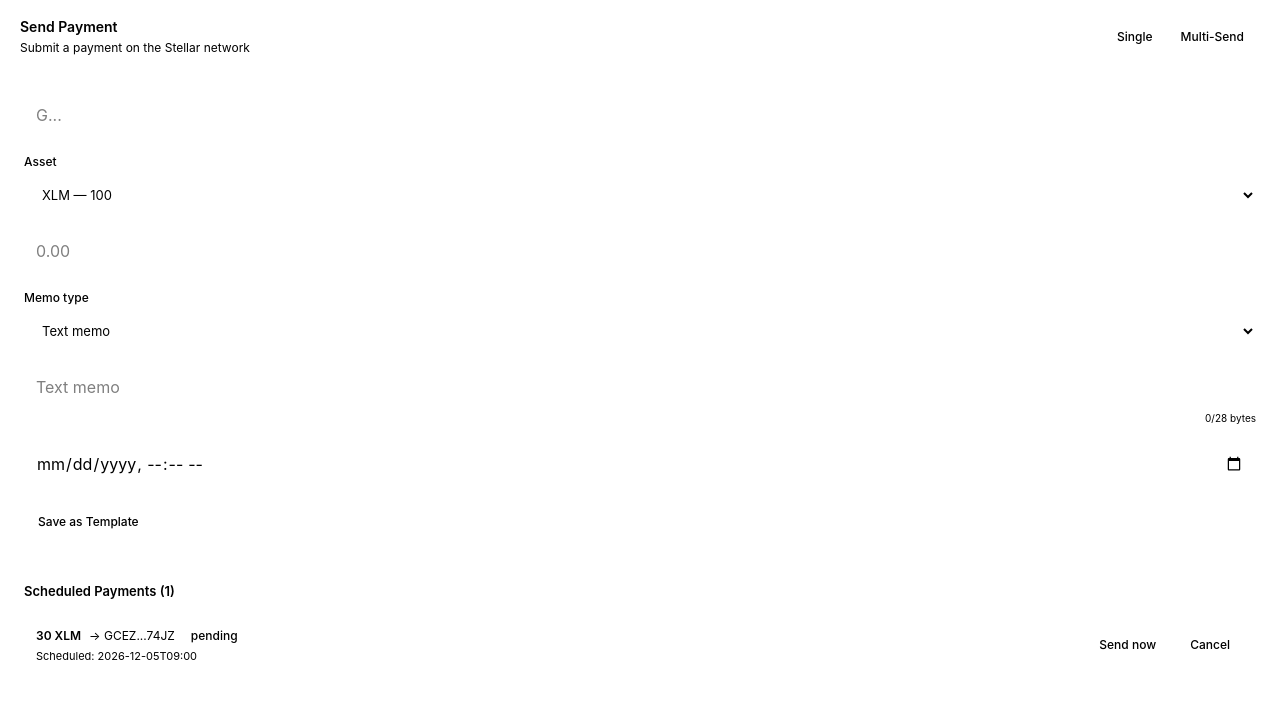
Test: TransactionPanel › Scheduled Transactions (#1145) › allows cancelling a scheduled transaction
Click the button with test id "cancel-scheduled-tx-sched-cancel" at (1210, 645), box [1176,629,1244,661]
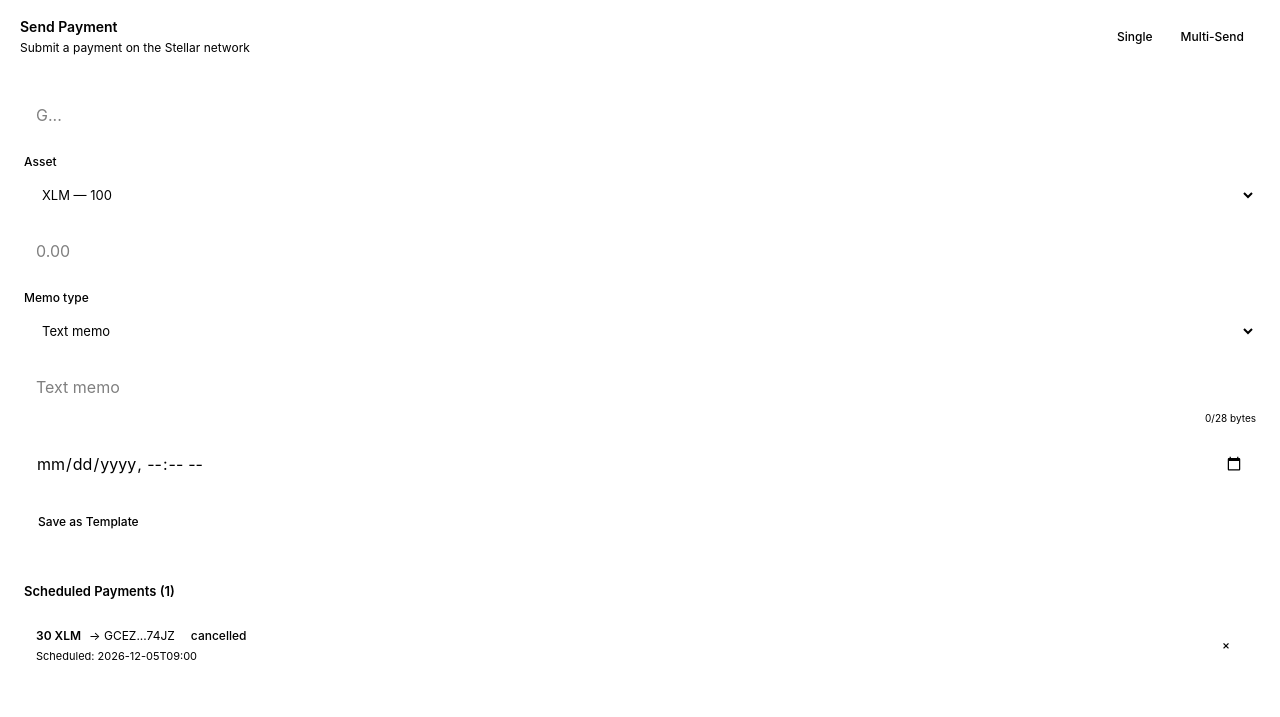
Expected: the text "cancelled" is shown, [191,628,246,642]
